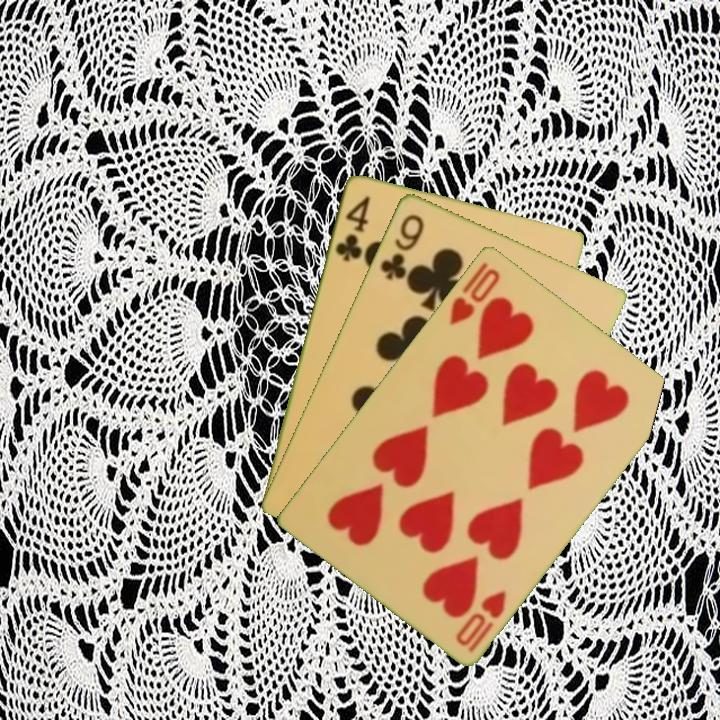10h: (445, 258, 503, 328), (451, 586, 509, 655)
4c: (331, 192, 373, 264)
9c: (376, 210, 427, 282)
